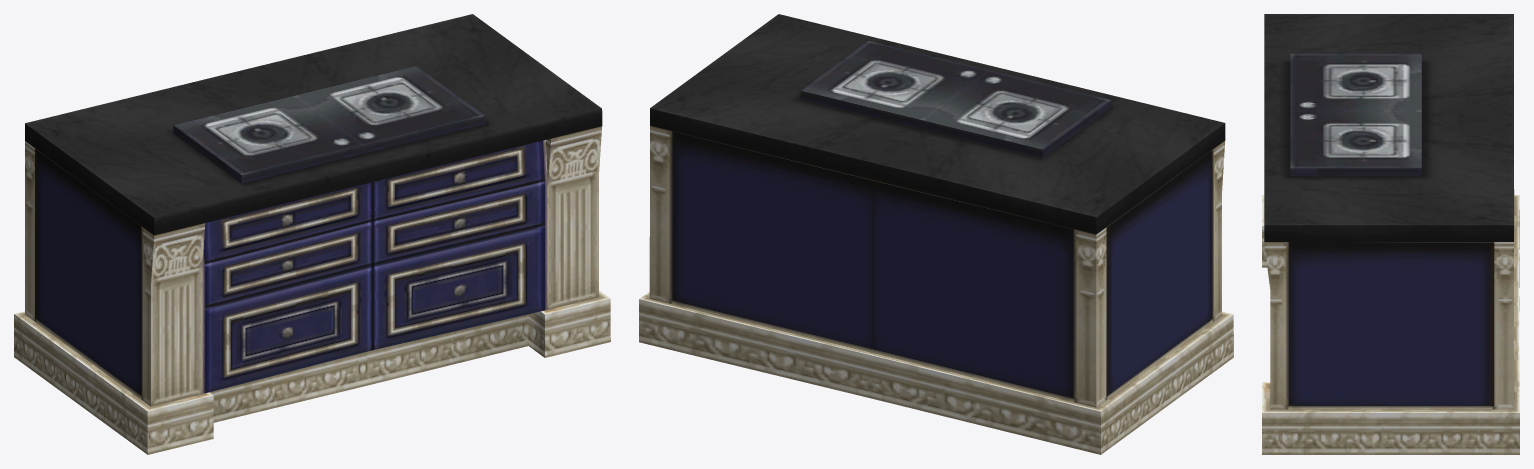
Rendered from furni_0201120.FBX.
The picture shows the model from 3 angles, left to right: view 1: azimuth 30°, elevation 25°; view 2: azimuth 150°, elevation 25°; view 3: azimuth 270°, elevation 25°; orthographic projection. The views are drawn at different scales.
Parts seen in each view (by area): view 1: furni_0201120; view 2: furni_0201120; view 3: furni_0201120.
Boxes of the visible parts, x1=… form: furni_0201120: x1=14, y1=14, x2=610, y2=454; furni_0201120: x1=639, y1=14, x2=1233, y2=454; furni_0201120: x1=1262, y1=14, x2=1519, y2=454.
Bounding box in the file's own units: 165 × 82.8 × 82.62.
1 material, 1 textured.
